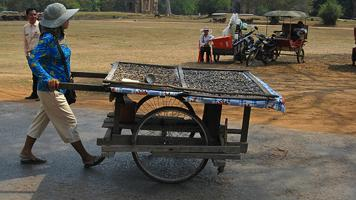person: (19, 4, 107, 169)
